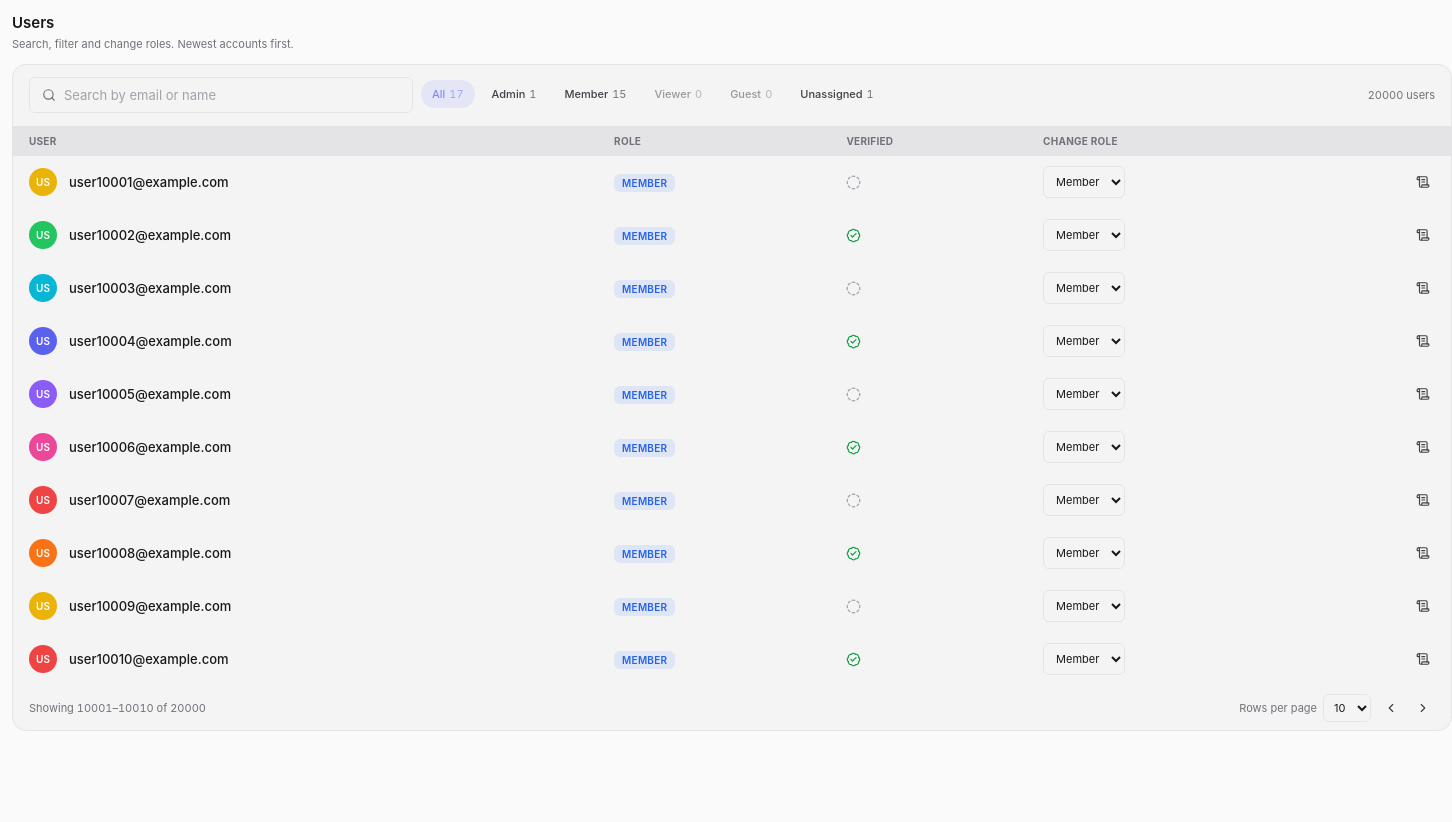
Test: UsersSection › reaches users past offset 10 000 by the cursor
This screenshot has width=1452, height=822.
Expected: the text "user10001@example.com" is shown, [69,173,228,191]
Click the button named "Next page": (1423, 708) [1411,696,1435,720]
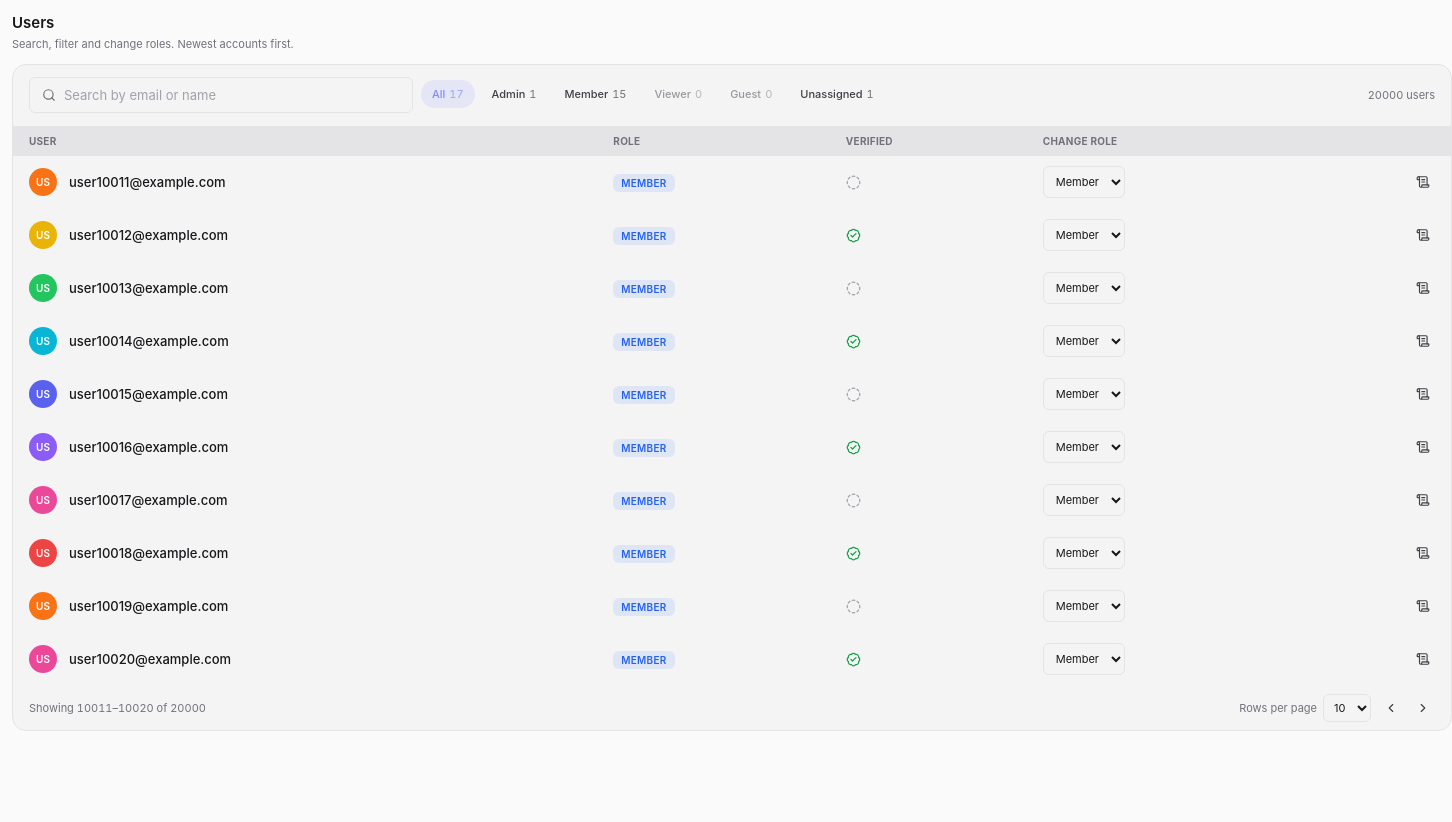
Expected: the text "user10011@example.com" is shown, [69,173,226,191]
Expected: the navigation bar named "Users pagination" shows "Showing 10011–10020 of 20000", [29,701,206,715]
